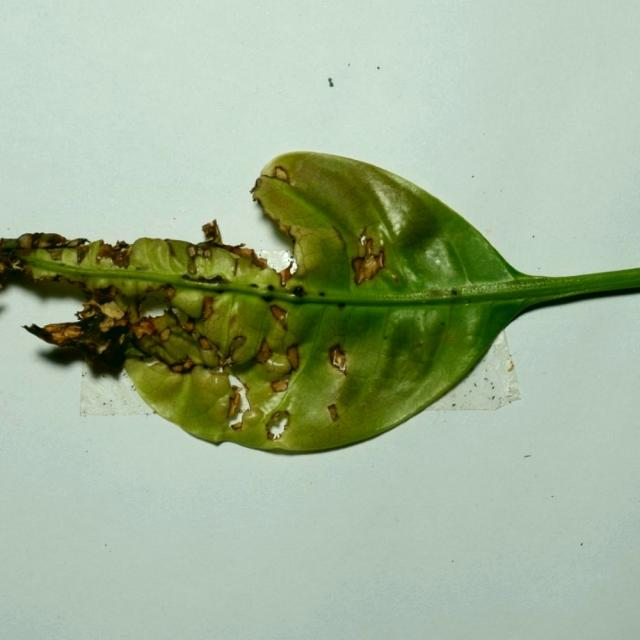Anthracnose: (0, 232, 91, 293), (22, 309, 127, 360), (194, 221, 269, 271), (254, 309, 301, 388), (75, 294, 133, 338), (193, 326, 247, 372), (351, 229, 388, 288), (21, 321, 70, 348), (10, 232, 78, 251), (137, 289, 173, 320), (95, 241, 132, 267), (253, 167, 290, 192), (1, 242, 20, 290), (187, 243, 214, 276), (129, 316, 161, 341), (265, 410, 290, 440), (327, 343, 348, 374), (231, 407, 255, 431), (181, 273, 229, 285), (198, 339, 219, 366), (226, 385, 242, 419), (201, 218, 222, 243), (284, 224, 301, 252), (255, 337, 273, 363), (164, 306, 184, 329), (420, 288, 462, 298), (169, 359, 196, 374), (269, 304, 287, 325), (351, 256, 365, 282), (331, 226, 346, 249), (200, 297, 214, 321), (77, 245, 90, 264), (273, 165, 289, 180), (280, 222, 293, 240), (250, 176, 263, 194), (327, 403, 339, 422), (240, 375, 251, 394), (113, 239, 130, 251), (358, 225, 369, 243), (364, 237, 374, 256), (251, 195, 258, 203)
Lemon: (0, 152, 639, 458)
